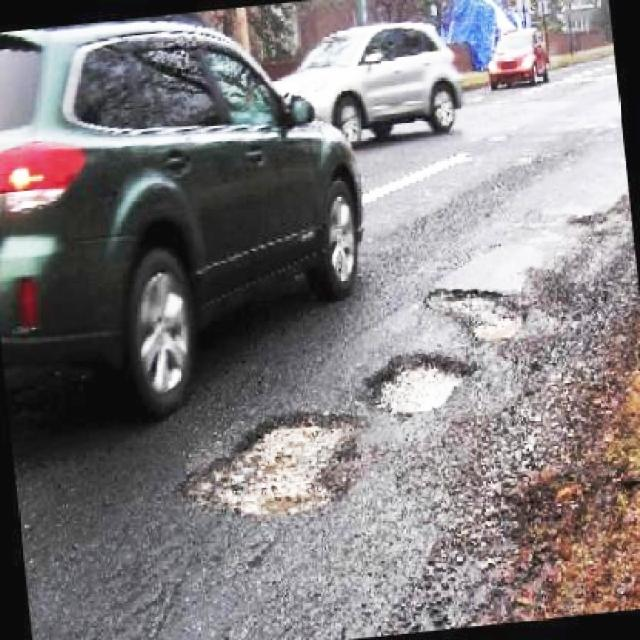pothole: (182, 404, 368, 528), (365, 344, 480, 416), (428, 283, 526, 343)
